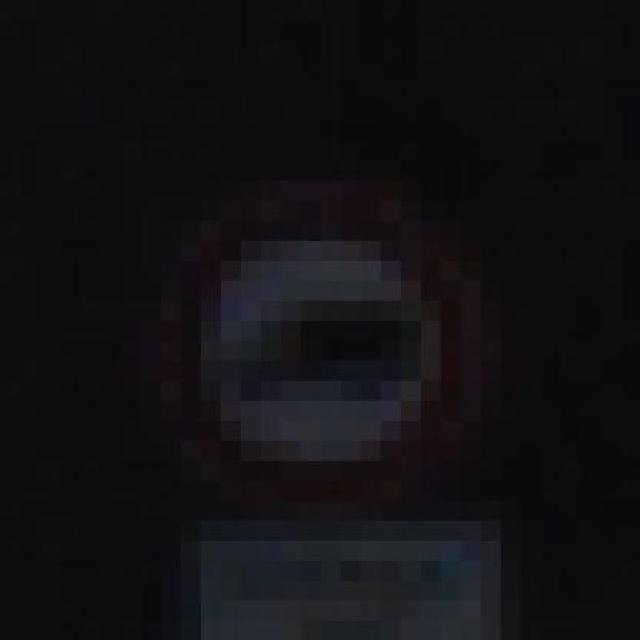Truck traffic is prohibited: (99, 171, 519, 511)
